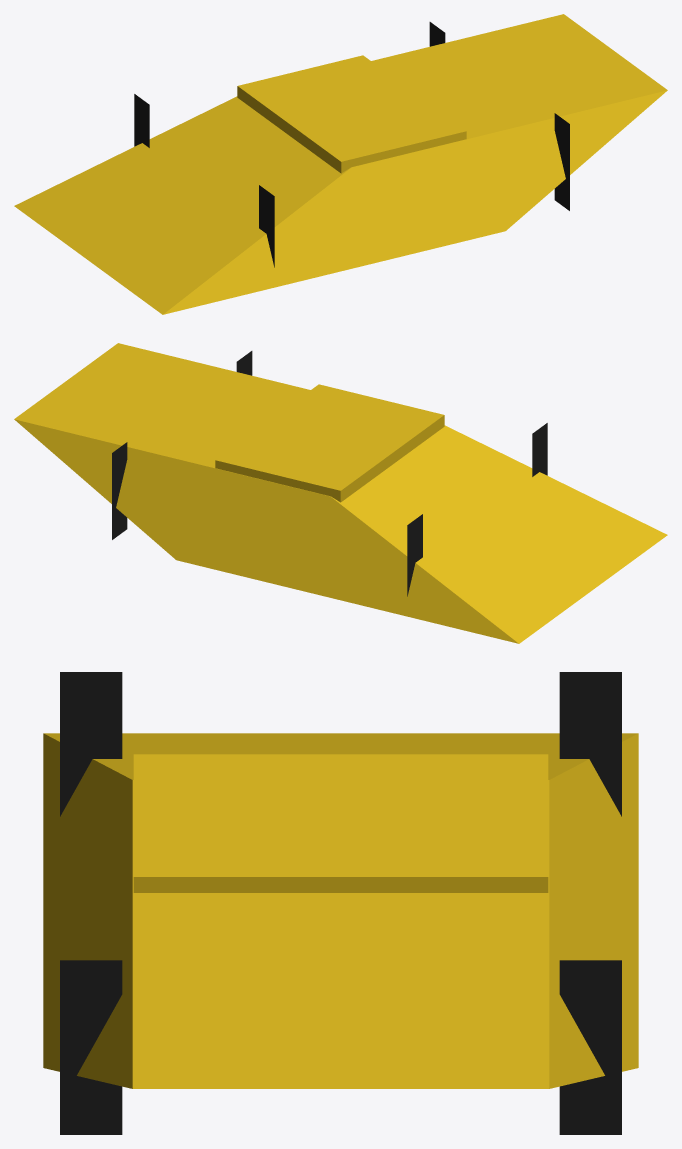
The model's file is coun.obj.
3 views of the same model, one above another, from view 1: azimuth 30°, elevation 25°; view 2: azimuth 150°, elevation 25°; view 3: azimuth 270°, elevation 25° (orthographic). The views are drawn at different scales.
Visible parts, largest first — view 1: coun; view 2: coun; view 3: coun.
Part boxes in pixels (bbox=[...]): coun: bbox=[14, 14, 667, 314]; coun: bbox=[14, 343, 667, 643]; coun: bbox=[43, 672, 638, 1134].
Size of the model in its own units: 430 by 68.2 by 210.
